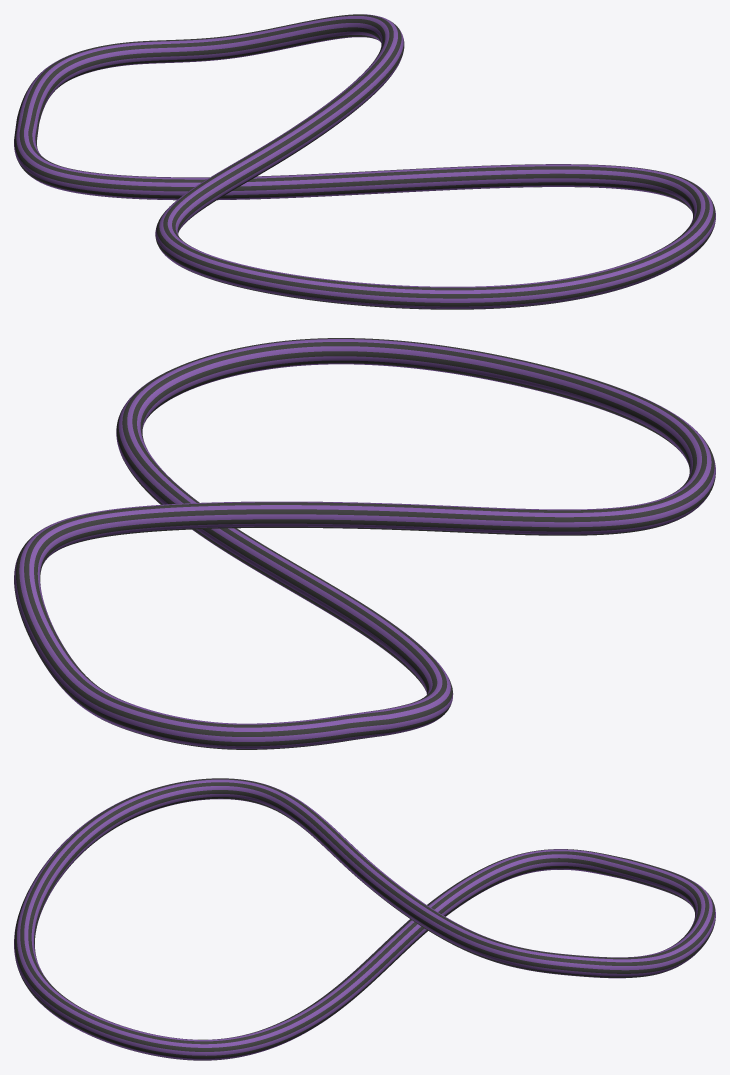
Rendered from loop track for island subsect.fbx.
3 views of the same model, one above another, from view 1: azimuth 30°, elevation 25°; view 2: azimuth 150°, elevation 25°; view 3: azimuth 270°, elevation 25° (orthographic). The views are drawn at different scales.
Parts seen in each view (by area): view 1: NurbsCurve.001; view 2: NurbsCurve.001; view 3: NurbsCurve.001.
Part boxes in pixels (<box>): NurbsCurve.001: <box>14,14,715,309</box>; NurbsCurve.001: <box>14,338,715,749</box>; NurbsCurve.001: <box>14,778,715,1060</box>.
Size of the model in its own units: 6993 by 1075 by 9145.
